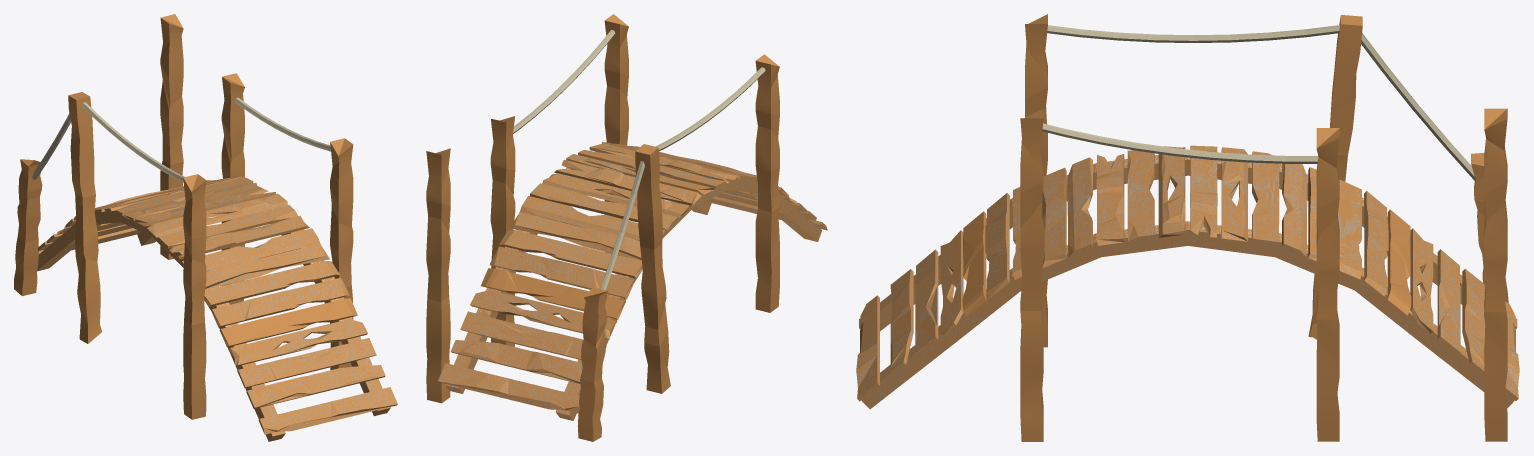
Rendered from Bridge2.fbx.
The picture shows the model from 3 angles, left to right: view 1: azimuth 30°, elevation 25°; view 2: azimuth 150°, elevation 25°; view 3: azimuth 270°, elevation 25°; orthographic projection. The views are drawn at different scales.
Visible parts, largest first — view 1: Stolb7_4, Stolb7_6, Stolb7_3, Stolb7_1, Stolb7_5, Group24, Group21, Group25, Group22, Group26, Group23, Group20 (+14 smaller); view 2: Stolb7_4, Stolb7_6, Stolb7_3, Stolb7_5, Stolb7_2, Group16, Stolb7_1, Group12, Group17, Group11, Group15, Group13 (+16 smaller); view 3: Group27, Stolb7_3, Stolb7_1, Stolb7_2, Stolb7_6, Stolb7_4, Group28, Group8, Group6, Group29, Group3, Group18 (+23 smaller).
Boxes of the visible parts, x1,y1,x2,y2 form: Stolb7_4: (183,174,206,419); Stolb7_6: (68,92,102,343); Stolb7_3: (160,14,183,259); Stolb7_1: (330,138,353,369); Stolb7_5: (14,159,42,296); Group24: (237,338,376,387); Group21: (211,277,349,327); Group25: (258,387,397,434); Group22: (219,298,357,347); Group26: (246,365,385,408); Group23: (228,319,367,366); Group20: (204,261,339,306); Stolb7_4: (755,54,779,312); Stolb7_6: (635,144,670,393); Stolb7_3: (426,148,450,403); Stolb7_5: (577,287,608,441); Stolb7_2: (490,116,515,346); Group16: (438,363,579,413); Stolb7_1: (604,14,628,256); Group12: (489,246,634,298); Group17: (451,340,582,383); Group11: (499,230,642,278); Group15: (460,311,606,359); Group13: (481,268,625,319); Group27: (861,221,1514,409); Stolb7_3: (1484,108,1507,441); Stolb7_1: (1020,109,1043,441); Stolb7_2: (1316,128,1339,441); Stolb7_6: (1308,15,1362,339); Stolb7_4: (1025,14,1047,347); Group28: (1047,25,1339,42); Group8: (1127,150,1154,241); Group6: (1096,154,1124,245); Group29: (1042,123,1318,163); Group3: (1252,151,1279,245); Group18: (1067,157,1092,257).
Bounding box in the file's own units: 1221 × 1744 × 3206.
